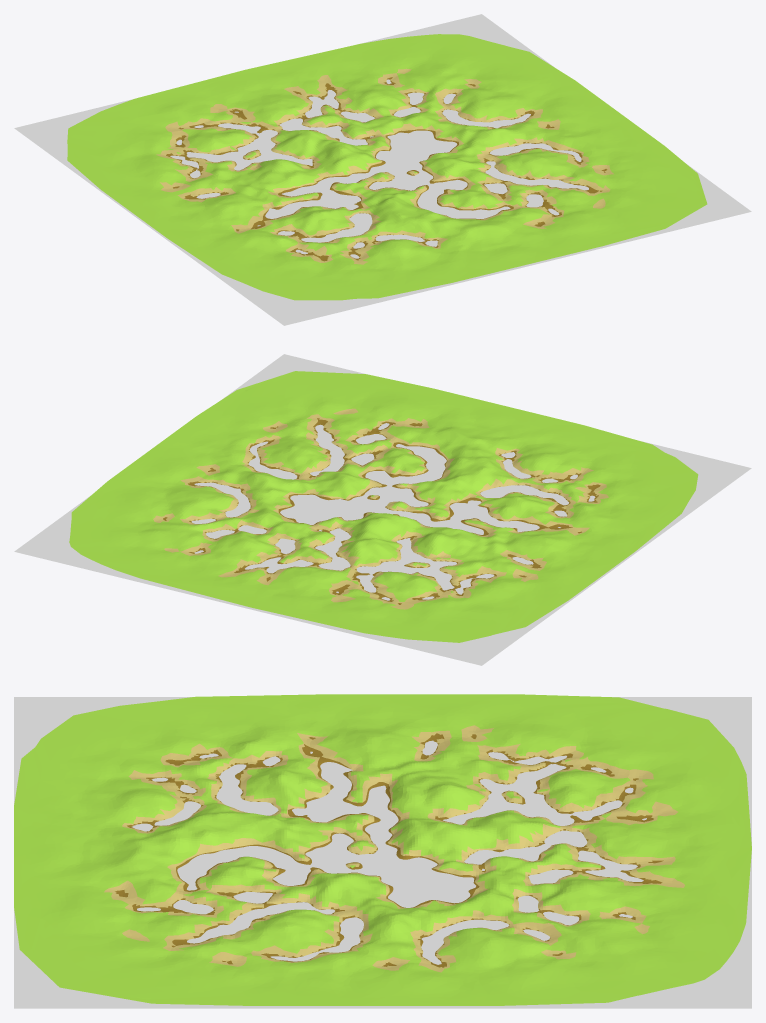
File: Tereny2_Jeziora.fbx
3 renders of one model, top to bottom at view 1: azimuth 30°, elevation 25°; view 2: azimuth 150°, elevation 25°; view 3: azimuth 270°, elevation 25°, orthographic. The views are drawn at different scales.
Parts seen in each view (by area): view 1: Jeziora, Landscape_plane; view 2: Jeziora, Landscape_plane; view 3: Jeziora, Landscape_plane.
Boxes of the visible parts, bbox=[...] form: Jeziora: bbox=[67, 34, 707, 300]; Landscape_plane: bbox=[14, 14, 751, 325]; Jeziora: bbox=[69, 371, 698, 642]; Landscape_plane: bbox=[14, 354, 751, 665]; Jeziora: bbox=[14, 694, 751, 1005]; Landscape_plane: bbox=[14, 697, 751, 1008].
Size of the model in its own units: 36782 by 966 by 36782.
